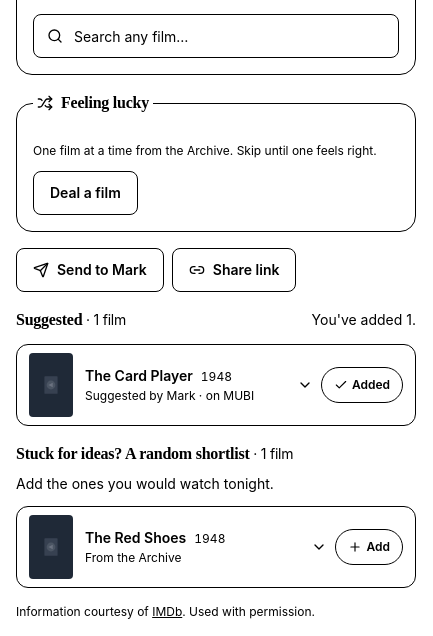
MovieNightSessionPage › announces a match from the list, once the vote completes one
(page scrolled)
Step 1. Click the button named "Add The Red Shoes" → (369, 547), box [336,529,403,565]
(page scrolled)
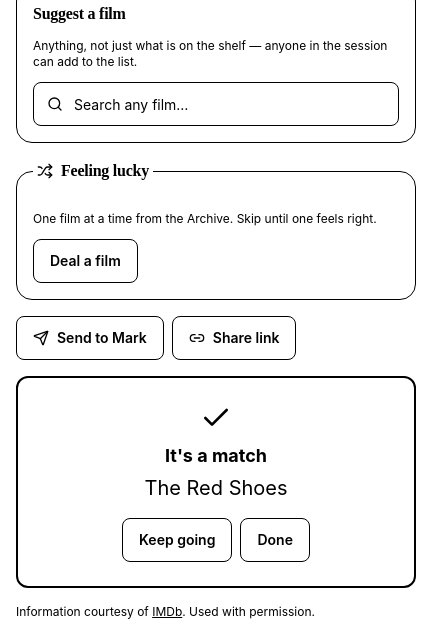
Expected: the text "The Red Shoes" is shown, [144,476,288,500]
Result: the text "It's a match" is shown at [165,445,267,466]
